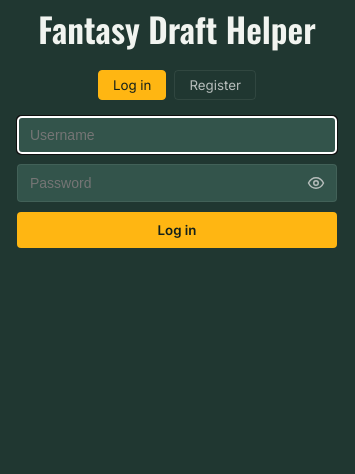
it: LoginForm › clears the mismatch message when Password changes
Click the button "Register": (215, 85) [174,70,256,100]
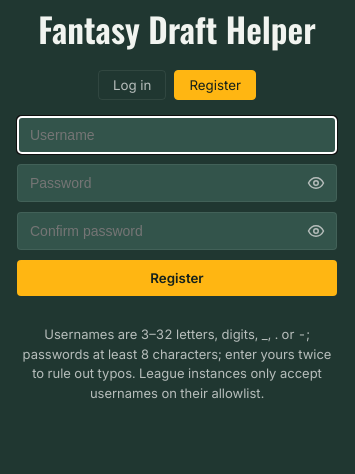
In the password field labelled "Password": (177, 183) [17,164,337,202], type "password123"
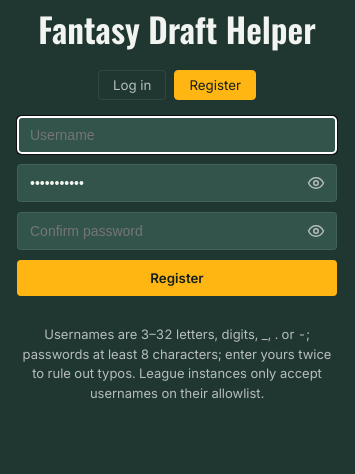
In the password field labelled "Confirm password": (177, 231) [17,212,337,250], type "password124"
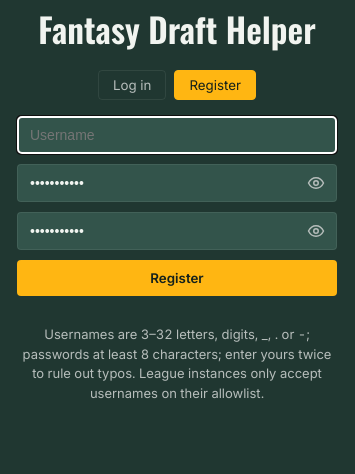
Submit the form named "Password", box [17,116,337,296]
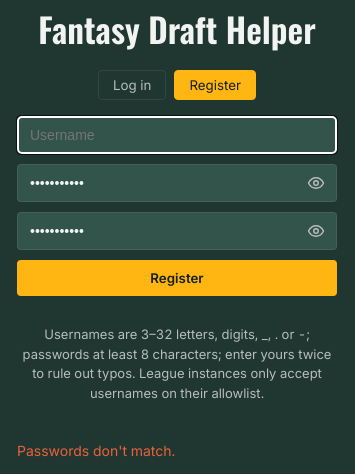
In the password field named "Password": (177, 183) [17,164,337,202], type "password1234"
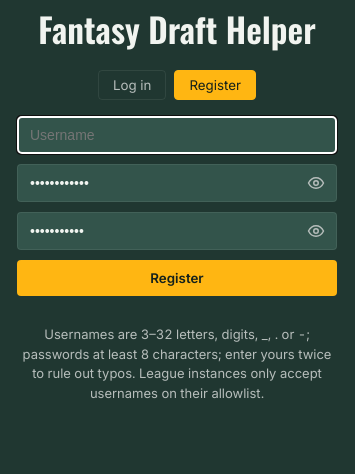
Result: the message "Passwords don't match." is gone
